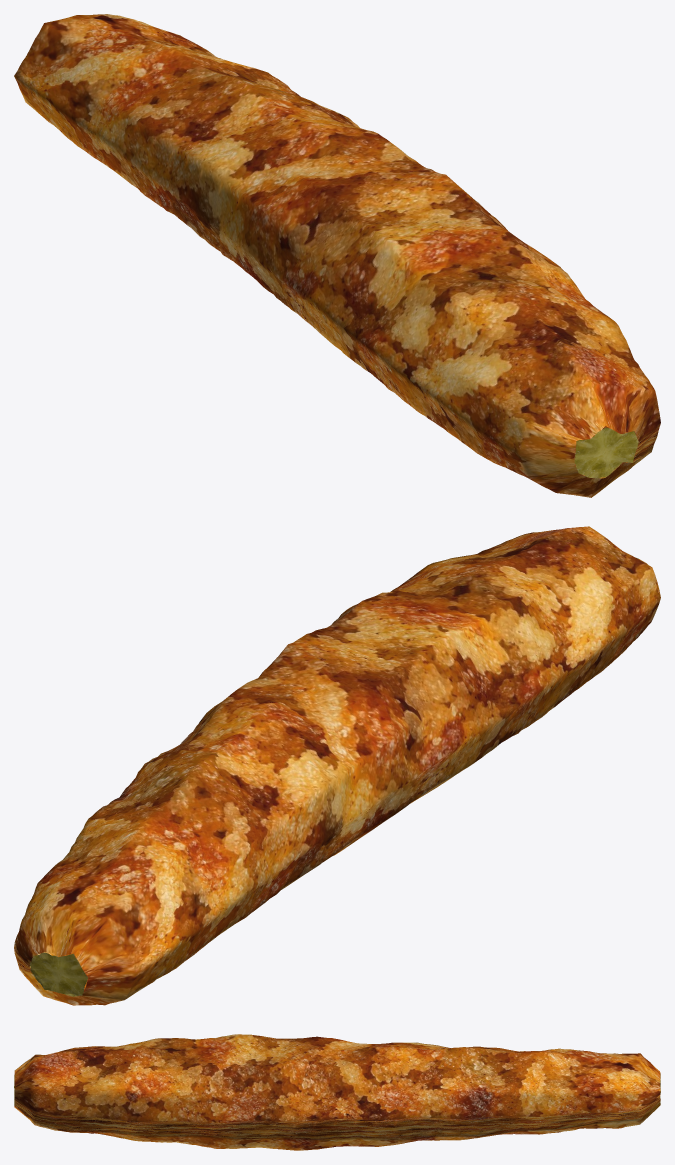
File: sides-pickle-spear.glb
The picture shows the model from 3 angles, top to bottom: view 1: azimuth 30°, elevation 25°; view 2: azimuth 150°, elevation 25°; view 3: azimuth 270°, elevation 25°; orthographic projection. The views are drawn at different scales.
Visible parts, largest first — view 1: Breaded fried pickle spear; view 2: Breaded fried pickle spear; view 3: Breaded fried pickle spear.
Part boxes in pixels (bbox=[...]): Breaded fried pickle spear: bbox=[14, 14, 660, 497]; Breaded fried pickle spear: bbox=[14, 526, 660, 1005]; Breaded fried pickle spear: bbox=[14, 1034, 660, 1150].
Bounding box in the file's own units: 0.3555 × 0.2483 × 1.57.
2 materials, 2 textured.
